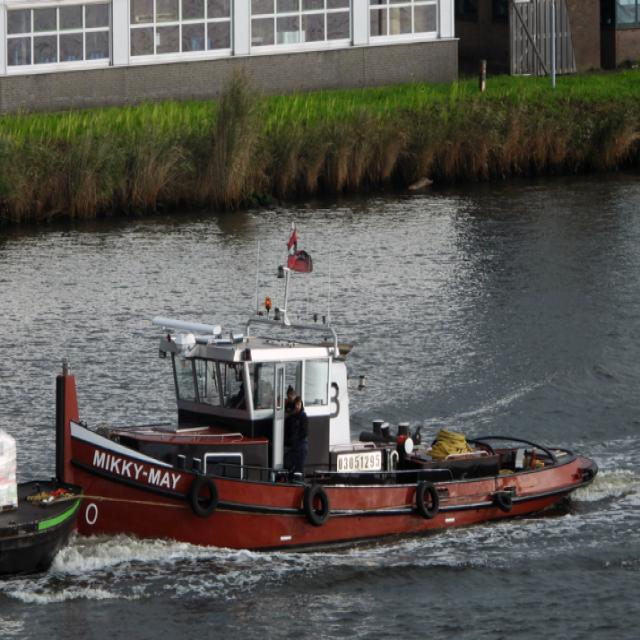tugboat: (46, 302, 602, 561)
